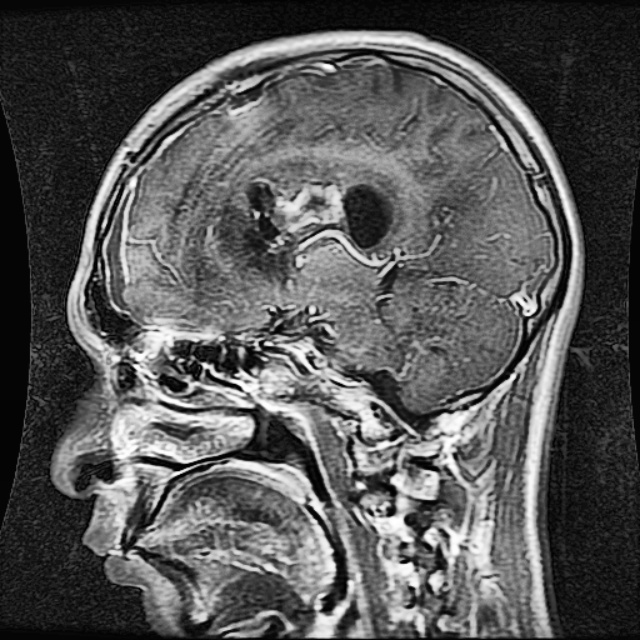Meningioma: (243, 179, 398, 275)
